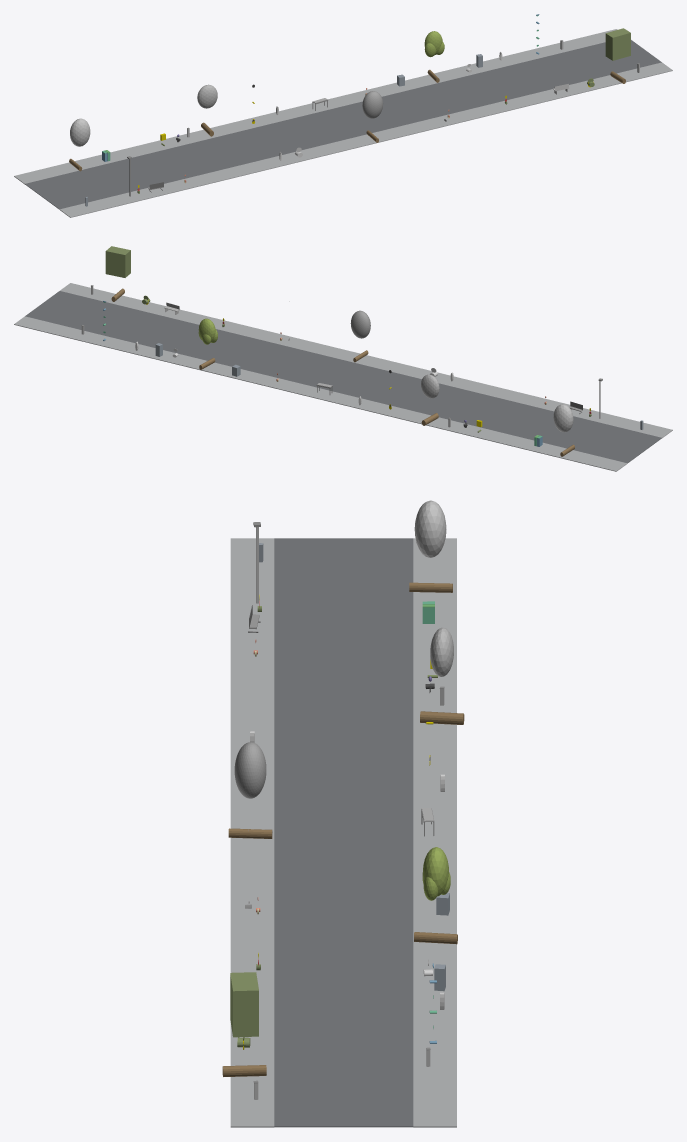
3 views of the same model, one above another, from view 1: azimuth 30°, elevation 25°; view 2: azimuth 150°, elevation 25°; view 3: azimuth 270°, elevation 25° (orthographic). The views are drawn at different scales.
Visible parts, largest first — view 1: road_slab, sidewalk_left, sidewalk_right, inst_0016, inst_0012, inst_0014, inst_0015, inst_0013; view 2: road_slab, sidewalk_right, sidewalk_left, inst_0016, inst_0012, inst_0014, inst_0015, inst_0013; view 3: road_slab, sidewalk_left, sidewalk_right, inst_0016, inst_0014, inst_0012, inst_0015, inst_0013.
Part boxes in pixels (x1,y1,x2,y2): road_slab: (25,40,661,209); sidewalk_left: (59,62,672,217); sidewalk_right: (14,29,617,184); inst_0016: (605,28,630,83); inst_0012: (69,118,90,171); inst_0014: (362,91,383,142); inst_0015: (424,31,444,82); inst_0013: (197,84,217,136); road_slab: (25,291,661,463); sidewalk_right: (14,316,627,471); sidewalk_left: (60,283,672,438); inst_0016: (105,246,130,301); inst_0012: (553,404,574,456); inst_0014: (350,310,370,362); inst_0015: (198,318,217,369); inst_0013: (421,374,439,425); road_slab: (274,538,413,1127); sidewalk_left: (230,538,274,1127); sidewalk_right: (413,538,456,1127); inst_0016: (222,972,266,1076); inst_0014: (228,742,272,838); inst_0012: (409,500,452,592); inst_0015: (414,847,457,944); inst_0013: (420,627,464,724).
Bounding box in the file's own units: 80 × 6.08 × 13.89.
